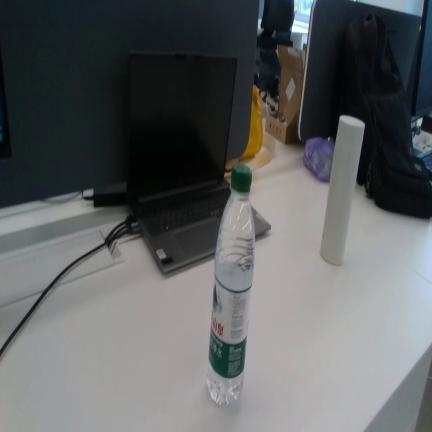bottle: (207, 164, 255, 406)
